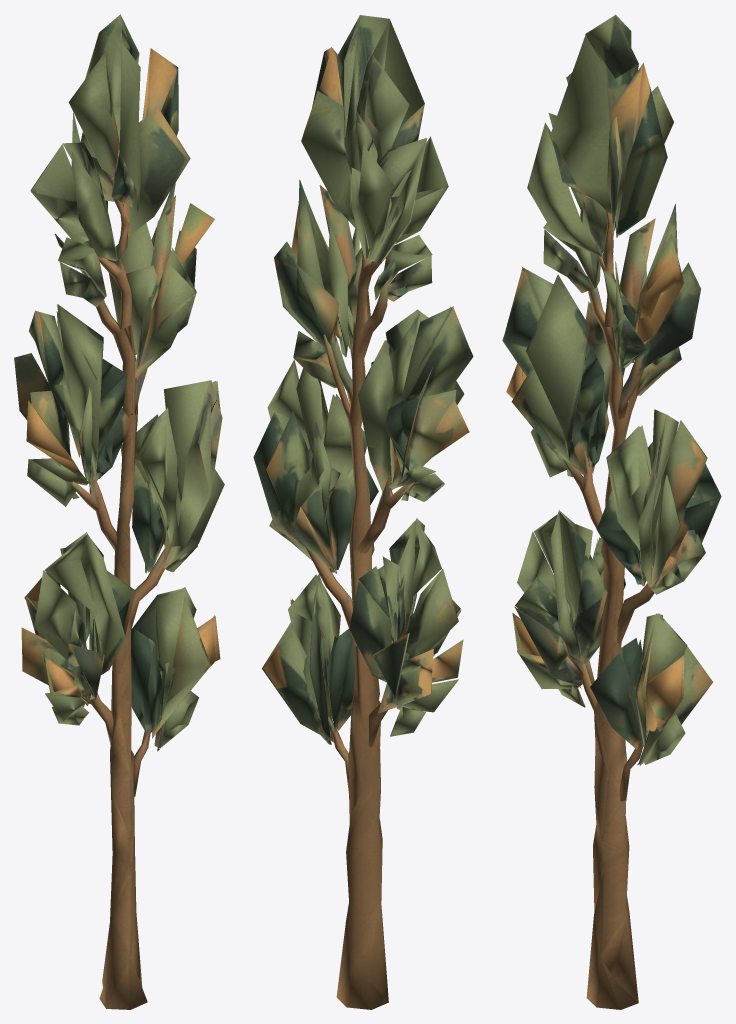
The model's file is AW-VAR-TREE-003-v0.2.glb.
3 renders of one model, left to right at view 1: azimuth 30°, elevation 25°; view 2: azimuth 150°, elevation 25°; view 3: azimuth 330°, elevation 25°, orthographic.
Visible parts, largest first — view 1: AW-VAR-TREE-003_meter_ground_pivot; view 2: AW-VAR-TREE-003_meter_ground_pivot; view 3: AW-VAR-TREE-003_meter_ground_pivot.
Part boxes in pixels (x1,y1,x2,y2): AW-VAR-TREE-003_meter_ground_pivot: (14, 14, 224, 1009); AW-VAR-TREE-003_meter_ground_pivot: (253, 15, 473, 1009); AW-VAR-TREE-003_meter_ground_pivot: (502, 14, 721, 1009).
Bounding box in the file's own units: 1.29 × 6 × 0.7131.
Materials: 1 (1 with a texture image).
